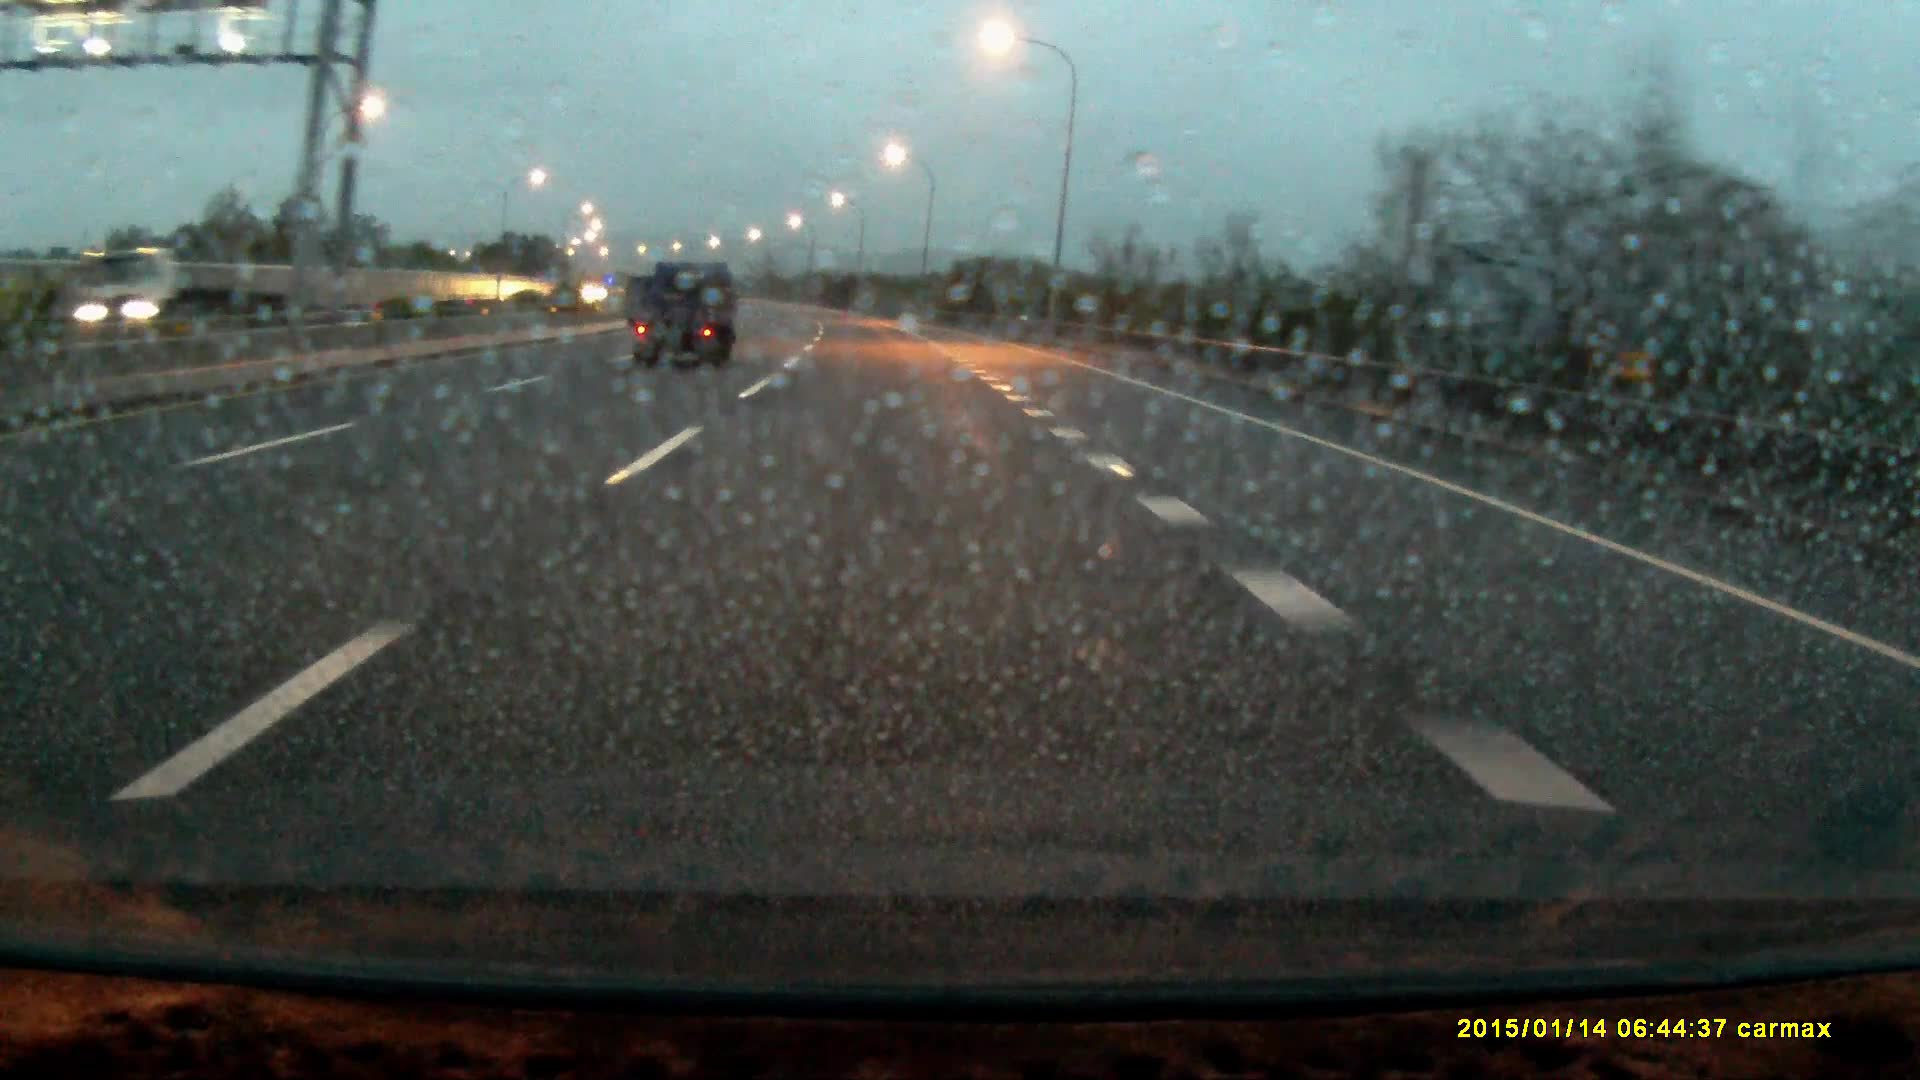vehicle: (47, 249, 272, 326), (632, 262, 740, 372)
